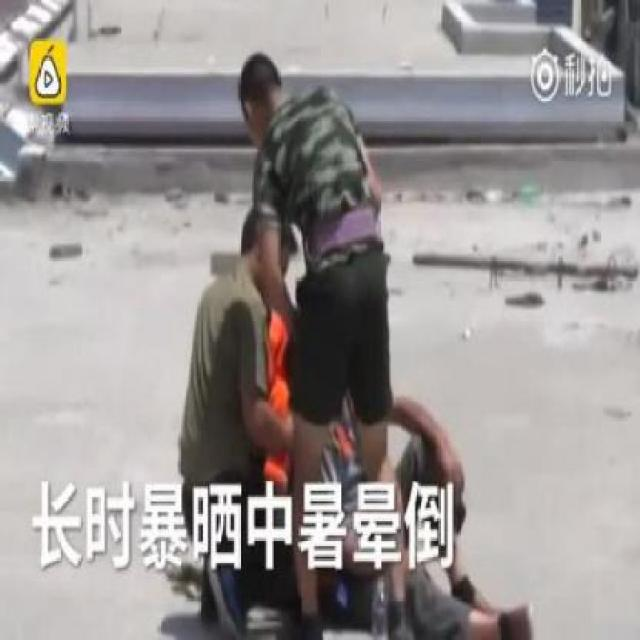fall: (281, 350, 554, 636)
